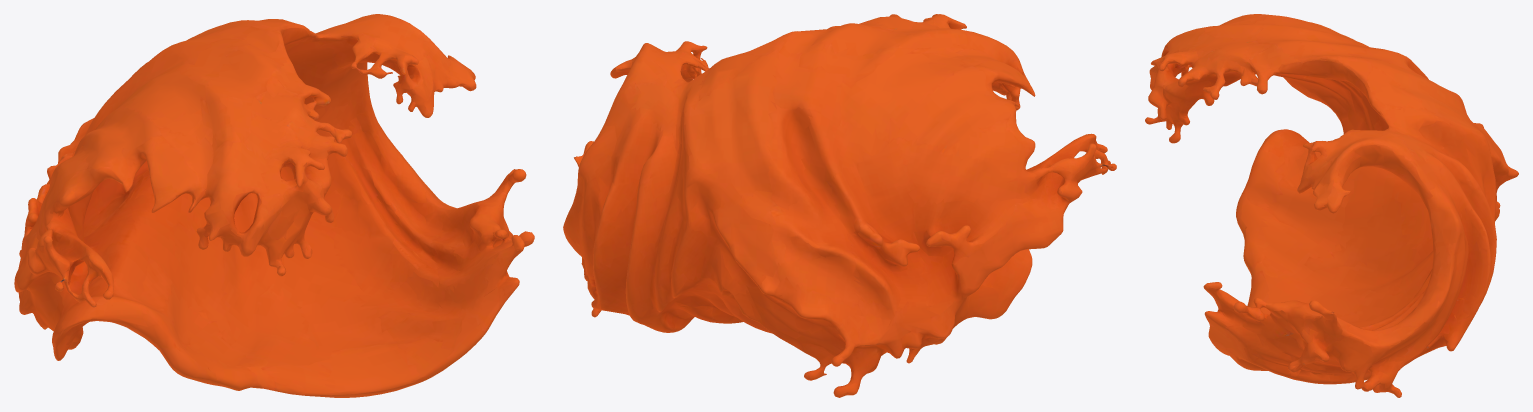
File: wave.glb
The picture shows the model from 3 angles, left to right: view 1: azimuth 30°, elevation 25°; view 2: azimuth 150°, elevation 25°; view 3: azimuth 270°, elevation 25°; orthographic projection. The views are drawn at different scales.
Bounding box in the file's own units: 1.9 × 1.16 × 1.4.
1 material, 1 textured.
